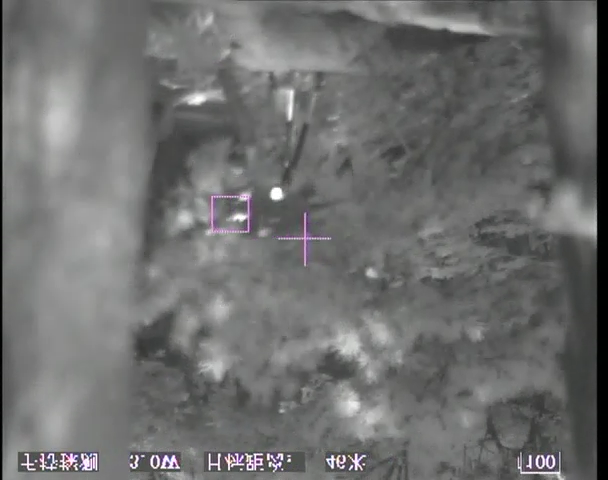my: (269, 186, 284, 202)
